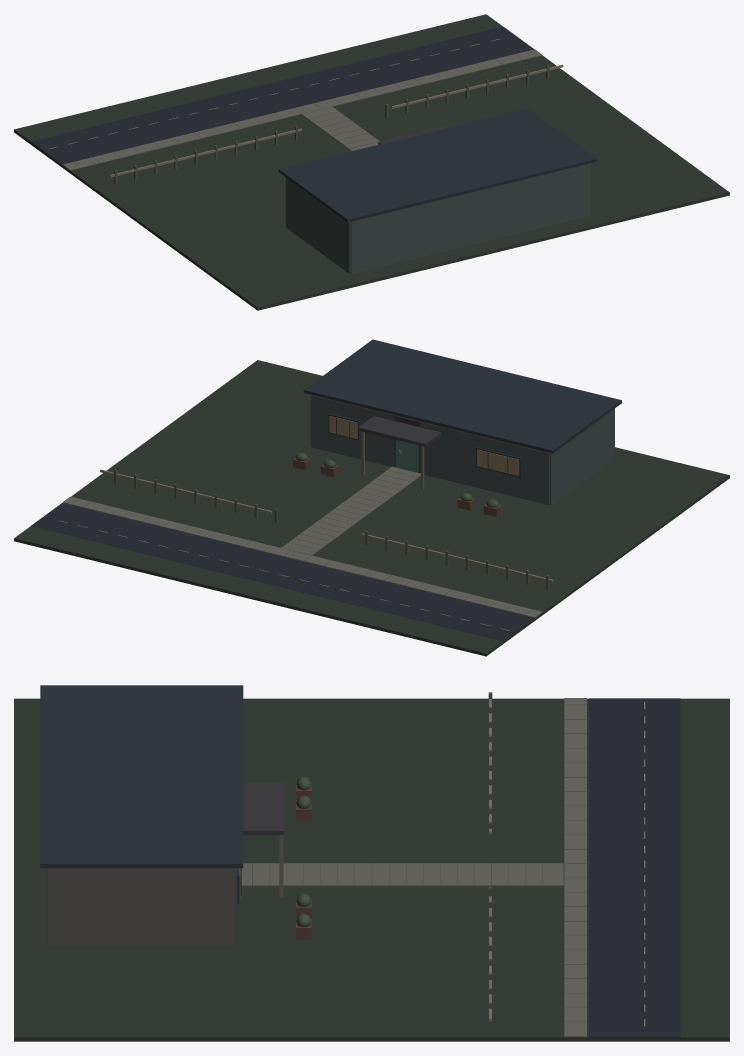
File: exteriorC2.obj
3 renders of one model, top to bottom at view 1: azimuth 30°, elevation 25°; view 2: azimuth 150°, elevation 25°; view 3: azimuth 270°, elevation 25°, orthographic. The views are drawn at different scales.
Visible parts, largest first — view 1: exteriorCustom_original_9, exteriorCustom_original_decor_000, exteriorCustom_original_15, exteriorCustom_original_14, exteriorCustom_original_12; view 2: exteriorCustom_original_9, exteriorCustom_original_decor_000, exteriorCustom_original_15, exteriorCustom_original_10, exteriorCustom_original_12, exteriorCustom_original_11, exteriorCustom_original_17, exteriorCustom_original_decor_001; view 3: exteriorCustom_original_9, exteriorCustom_original_decor_000, exteriorCustom_original_15, exteriorCustom_original_13, exteriorCustom_original_17.
Boxes of the visible parts, box(x1,y1,x2,y2) form: exteriorCustom_original_9: box(14, 14, 729, 310); exteriorCustom_original_decor_000: box(31, 26, 563, 177); exteriorCustom_original_15: box(278, 108, 596, 222); exteriorCustom_original_14: box(350, 164, 589, 274); exteriorCustom_original_12: box(285, 177, 350, 273); exteriorCustom_original_9: box(14, 360, 729, 656); exteriorCustom_original_decor_000: box(31, 394, 553, 640); exteriorCustom_original_15: box(303, 339, 621, 453); exteriorCustom_original_10: box(420, 422, 549, 505); exteriorCustom_original_12: box(550, 408, 614, 504); exteriorCustom_original_11: box(311, 395, 394, 466); exteriorCustom_original_17: box(358, 416, 441, 446); exteriorCustom_original_decor_001: box(329, 416, 519, 475); exteriorCustom_original_9: box(14, 698, 729, 1041); exteriorCustom_original_decor_000: box(237, 698, 680, 1037); exteriorCustom_original_15: box(40, 685, 243, 868); exteriorCustom_original_13: box(48, 868, 235, 945); exteriorCustom_original_17: box(243, 782, 283, 835).
Bounding box in the file's own units: 47 × 5.92 × 42.
